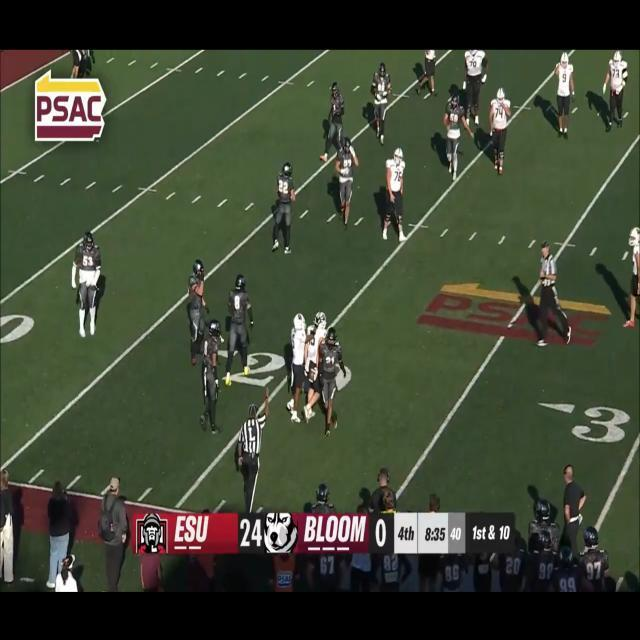football: (305, 364, 319, 389)
